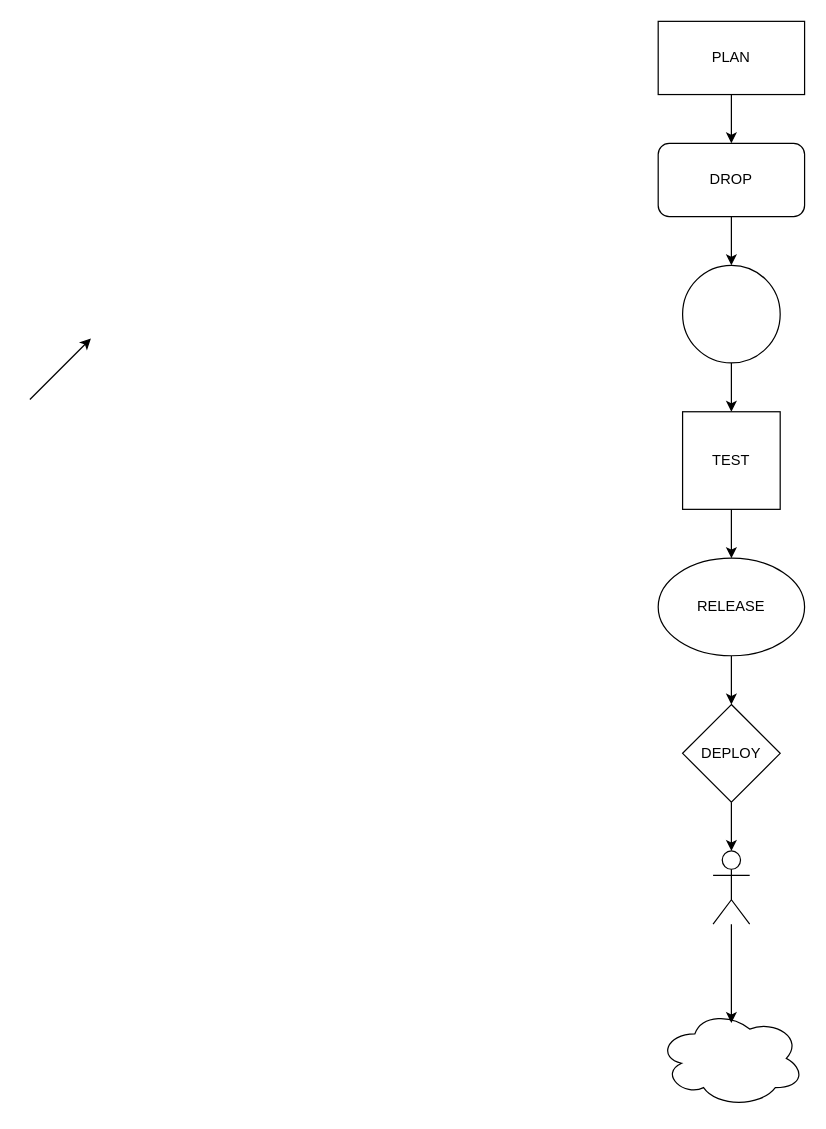
The diagram is 826 pixels wide and 1129 high, and some of its shapes have lost their labels. Each missing label, with the centre of its shape:
BUILD: (x=730, y=313)
OPERATION: (x=731, y=887)
